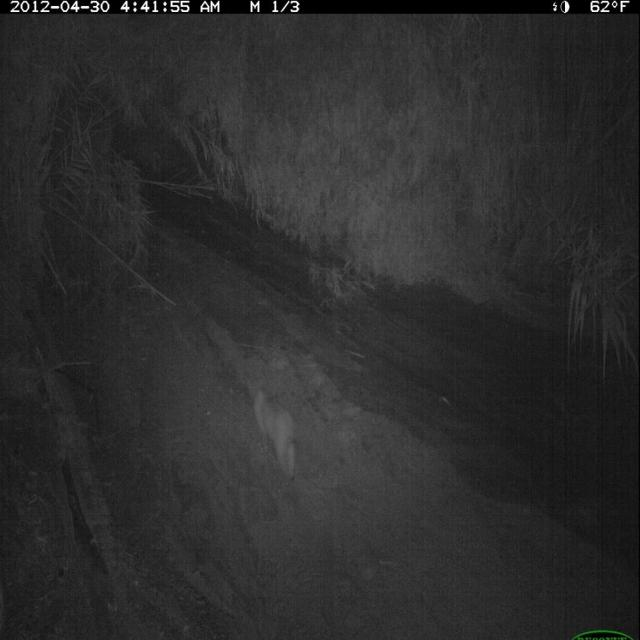bobcat: (241, 368, 301, 486)
